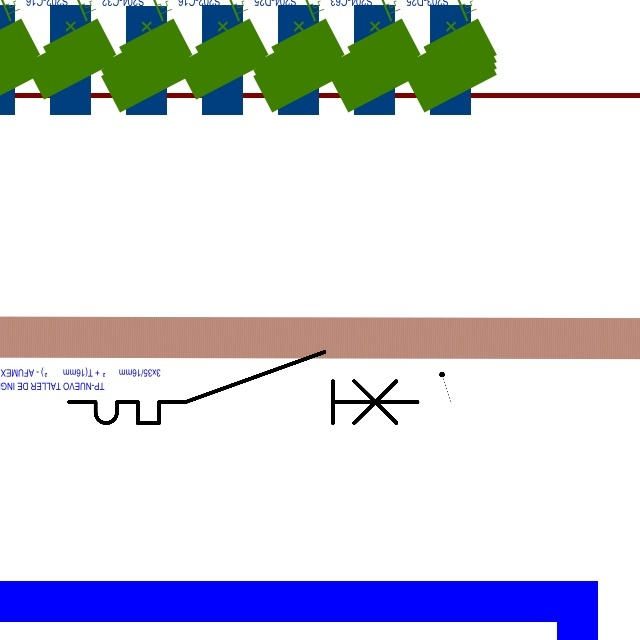interruptor_termomagnetico: (60, 343, 426, 432)
